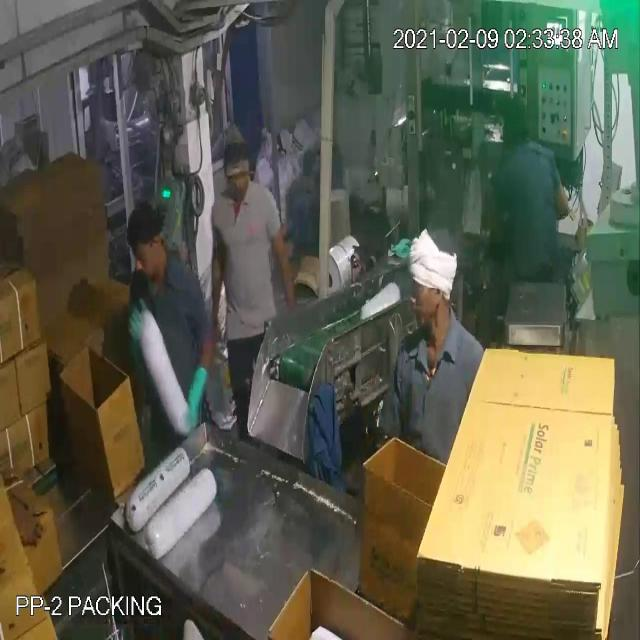gloves: (174, 357, 214, 450), (120, 284, 156, 374)
no-gloves: (260, 209, 306, 322), (190, 222, 230, 348), (7, 476, 49, 572)
